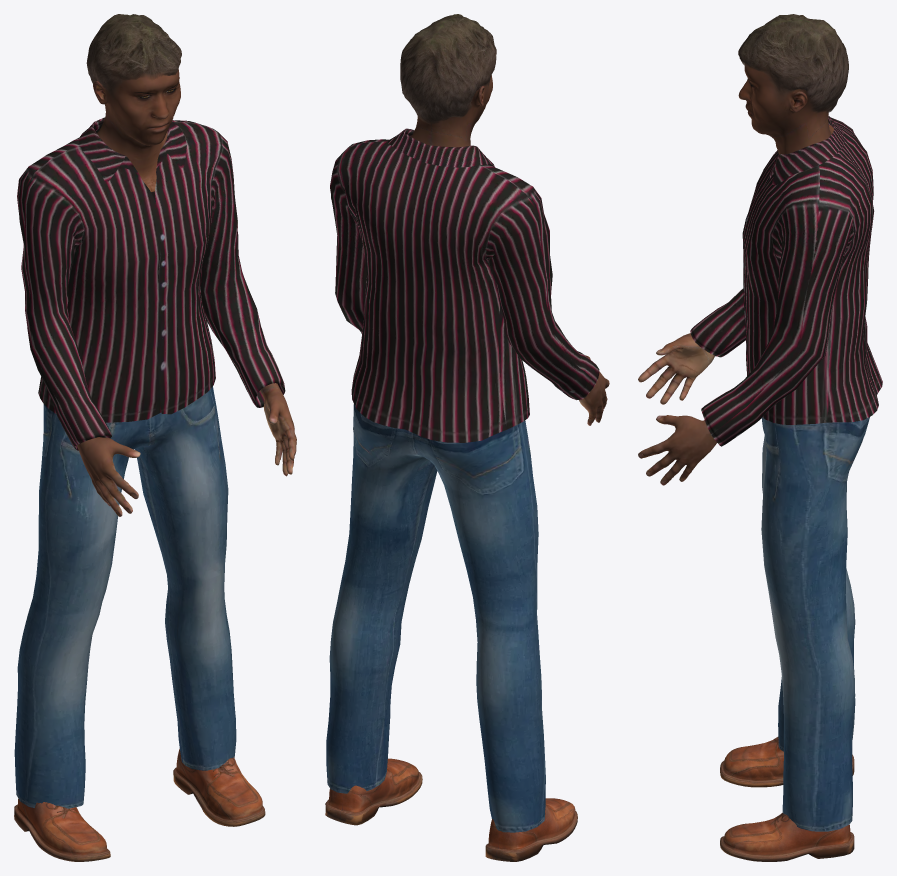
The model's file is uomo-02.glb.
3 renders of one model, left to right at view 1: azimuth 30°, elevation 25°; view 2: azimuth 150°, elevation 25°; view 3: azimuth 270°, elevation 25°, orthographic.
Visible parts, largest first — view 1: Human.male_casualsuit03, Human, Human.shoes01, Human.short02; view 2: Human.male_casualsuit03, Human.short02, Human.shoes01, Human; view 3: Human.male_casualsuit03, Human, Human.short02, Human.shoes01.
Part boxes in pixels (x1,y1,x2,y2): Human.male_casualsuit03: (14, 117, 285, 808); Human: (77, 69, 296, 516); Human.shoes01: (14, 749, 265, 861); Human.short02: (86, 14, 181, 97); Human.male_casualsuit03: (326, 128, 599, 832); Human.short02: (400, 14, 496, 124); Human.shoes01: (325, 758, 577, 861); Human: (411, 75, 609, 425); Human.male_casualsuit03: (690, 115, 882, 831); Human: (638, 64, 833, 485); Human.short02: (738, 14, 848, 112); Human.shoes01: (720, 737, 854, 861).
Bounding box in the file's own units: 0.5214 × 1.84 × 0.5126.
Materials: 12 (12 with a texture image).
